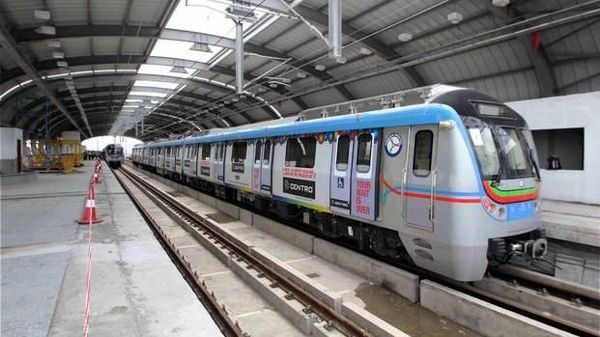train: (142, 93, 552, 287), (100, 140, 128, 167)
